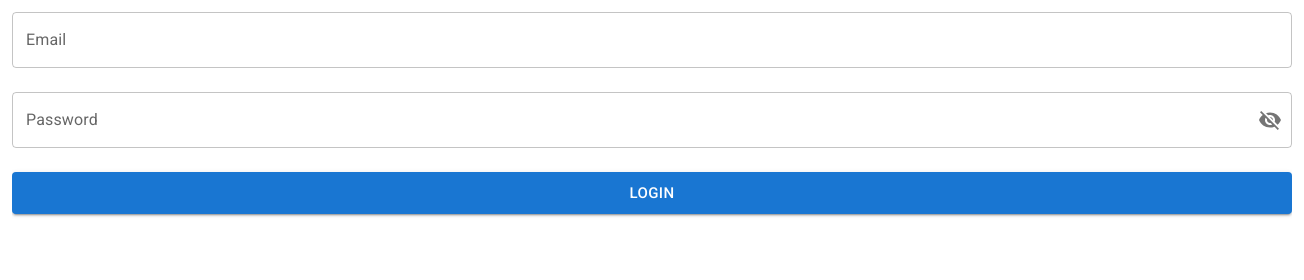
Test: LoginInput Component › should showing error msg when email is not valid
The width and height of the screenshot is (1304, 280).
In the field with placeholder "Email": coordinates (652, 40) [12,12,1292,68], type "anis@"
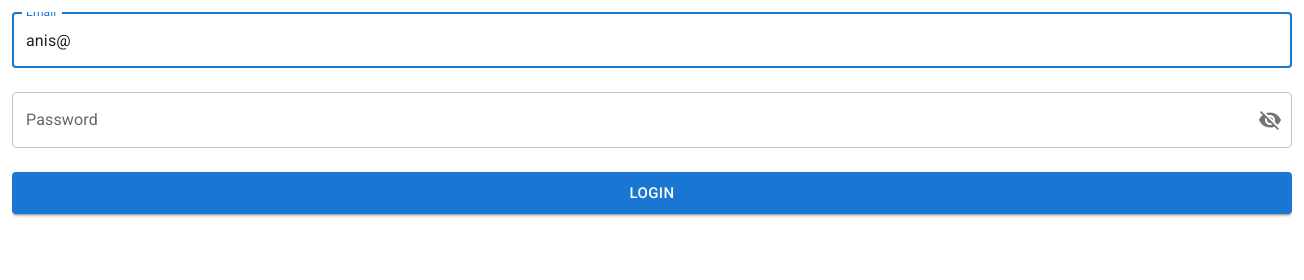
Click the button "Login": coordinates (652, 193) [12,172,1292,214]
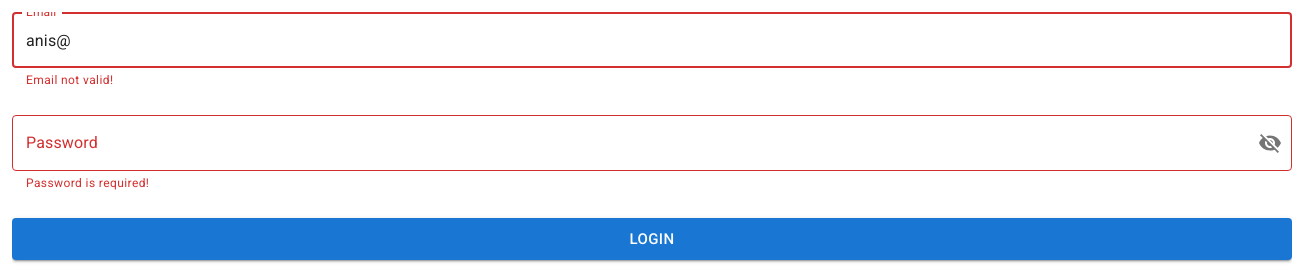
Result: the text "Email not valid!" is shown at [26,73,113,87]
